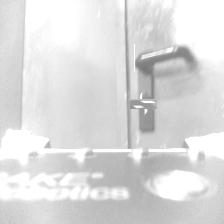Door Handle: (134, 44, 193, 72)
Lock: (134, 95, 153, 113)
